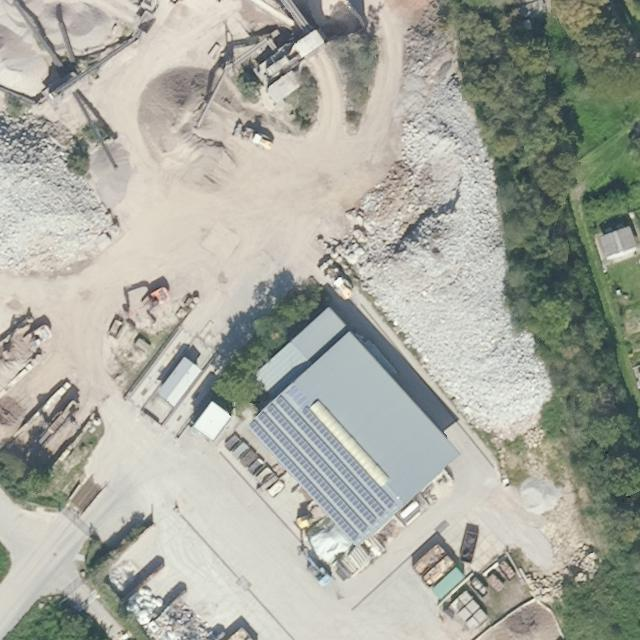PV: (244, 391, 399, 545)
